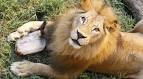lion: (8, 3, 143, 75)
